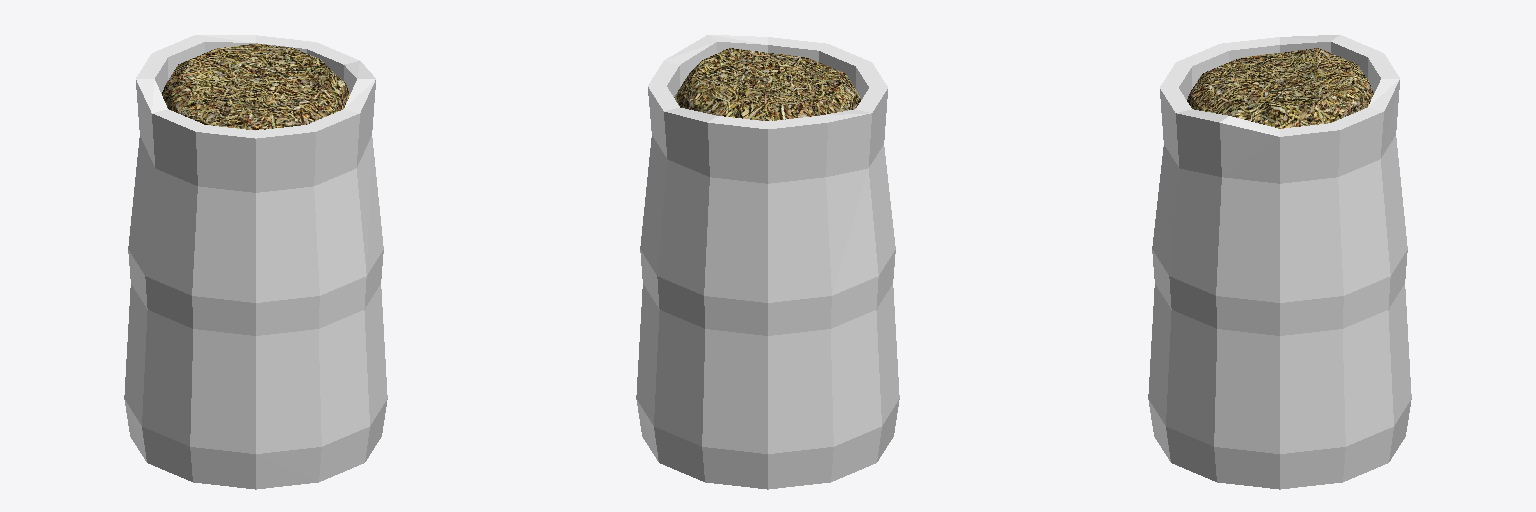
3 renders of one model, left to right at view 1: azimuth 30°, elevation 25°; view 2: azimuth 150°, elevation 25°; view 3: azimuth 270°, elevation 25°, orthographic.
Parts seen in each view (by area): view 1: Form10; view 2: Form10; view 3: Form10.
Boxes of the visible parts, x1,y1,x2,y2 form: Form10: [124, 35, 387, 489]; Form10: [636, 35, 899, 489]; Form10: [1148, 35, 1411, 489].
Size of the model in its own units: 2.49 by 3.76 by 2.49.
2 materials, 1 textured.